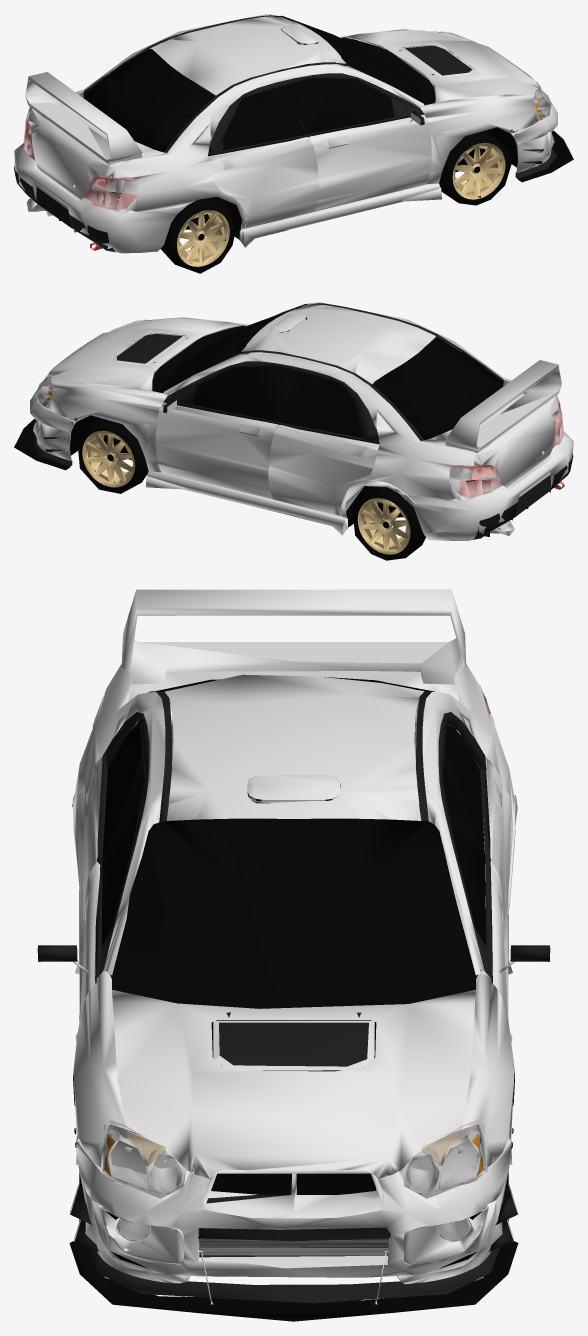
File: veh-subaru-wrx-sti.glb
3 renders of one model, top to bottom at view 1: azimuth 30°, elevation 25°; view 2: azimuth 150°, elevation 25°; view 3: azimuth 270°, elevation 25°, orthographic. The views are drawn at different scales.
Visible parts, largest first — view 1: Aftermarket Cooler_Cooler_0; view 2: Aftermarket Cooler_Cooler_0; view 3: Aftermarket Cooler_Cooler_0.
Part boxes in pixels (box(x1,y1,x2,y2)): Aftermarket Cooler_Cooler_0: box(14, 14, 573, 273); Aftermarket Cooler_Cooler_0: box(14, 302, 573, 560); Aftermarket Cooler_Cooler_0: box(37, 589, 550, 1321).
Size of the model in its own units: 5.42 by 1.74 by 2.43.
